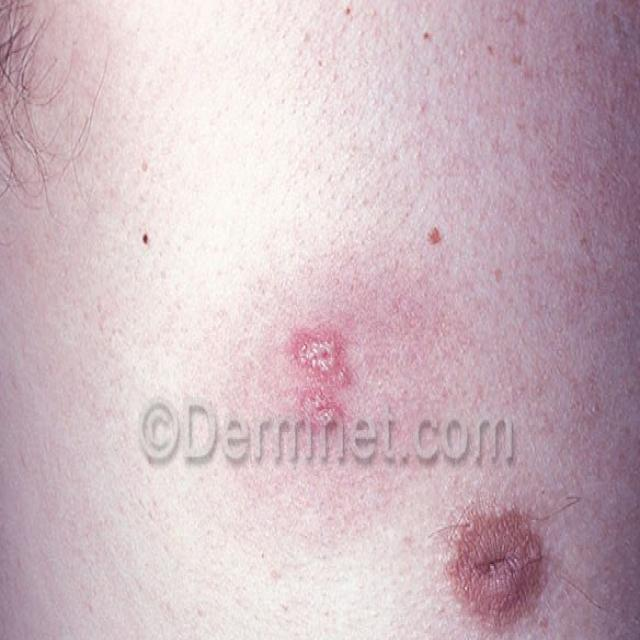Viral Infections: (293, 332, 359, 457)
